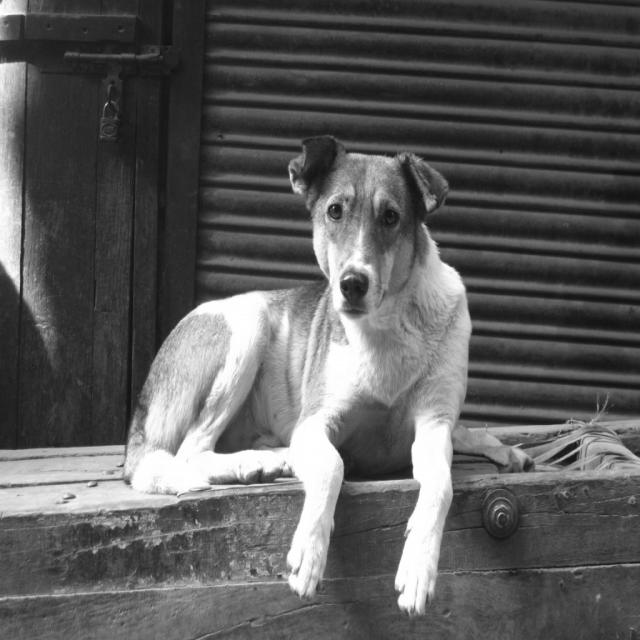laying down: (112, 124, 524, 621)
